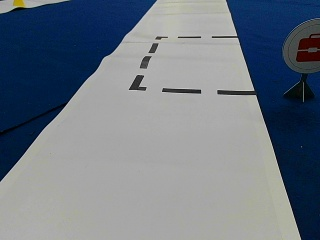company: (283, 17, 319, 72)
